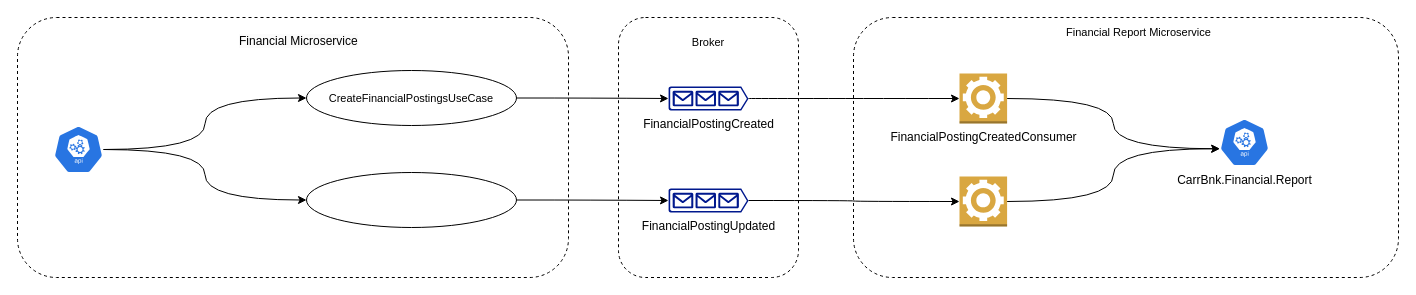
This 1416x295 diagram has some shape labels left out. Here are the shapes that lost their labels. From the top down, the centre of each, then its label:
At point 78,149: "CarrBnk.Financial".
At point 411,200: "UpdateFinancialPostingsUseCase".
At point 982,201: "FinancialPostingUpdatedConsumer".
